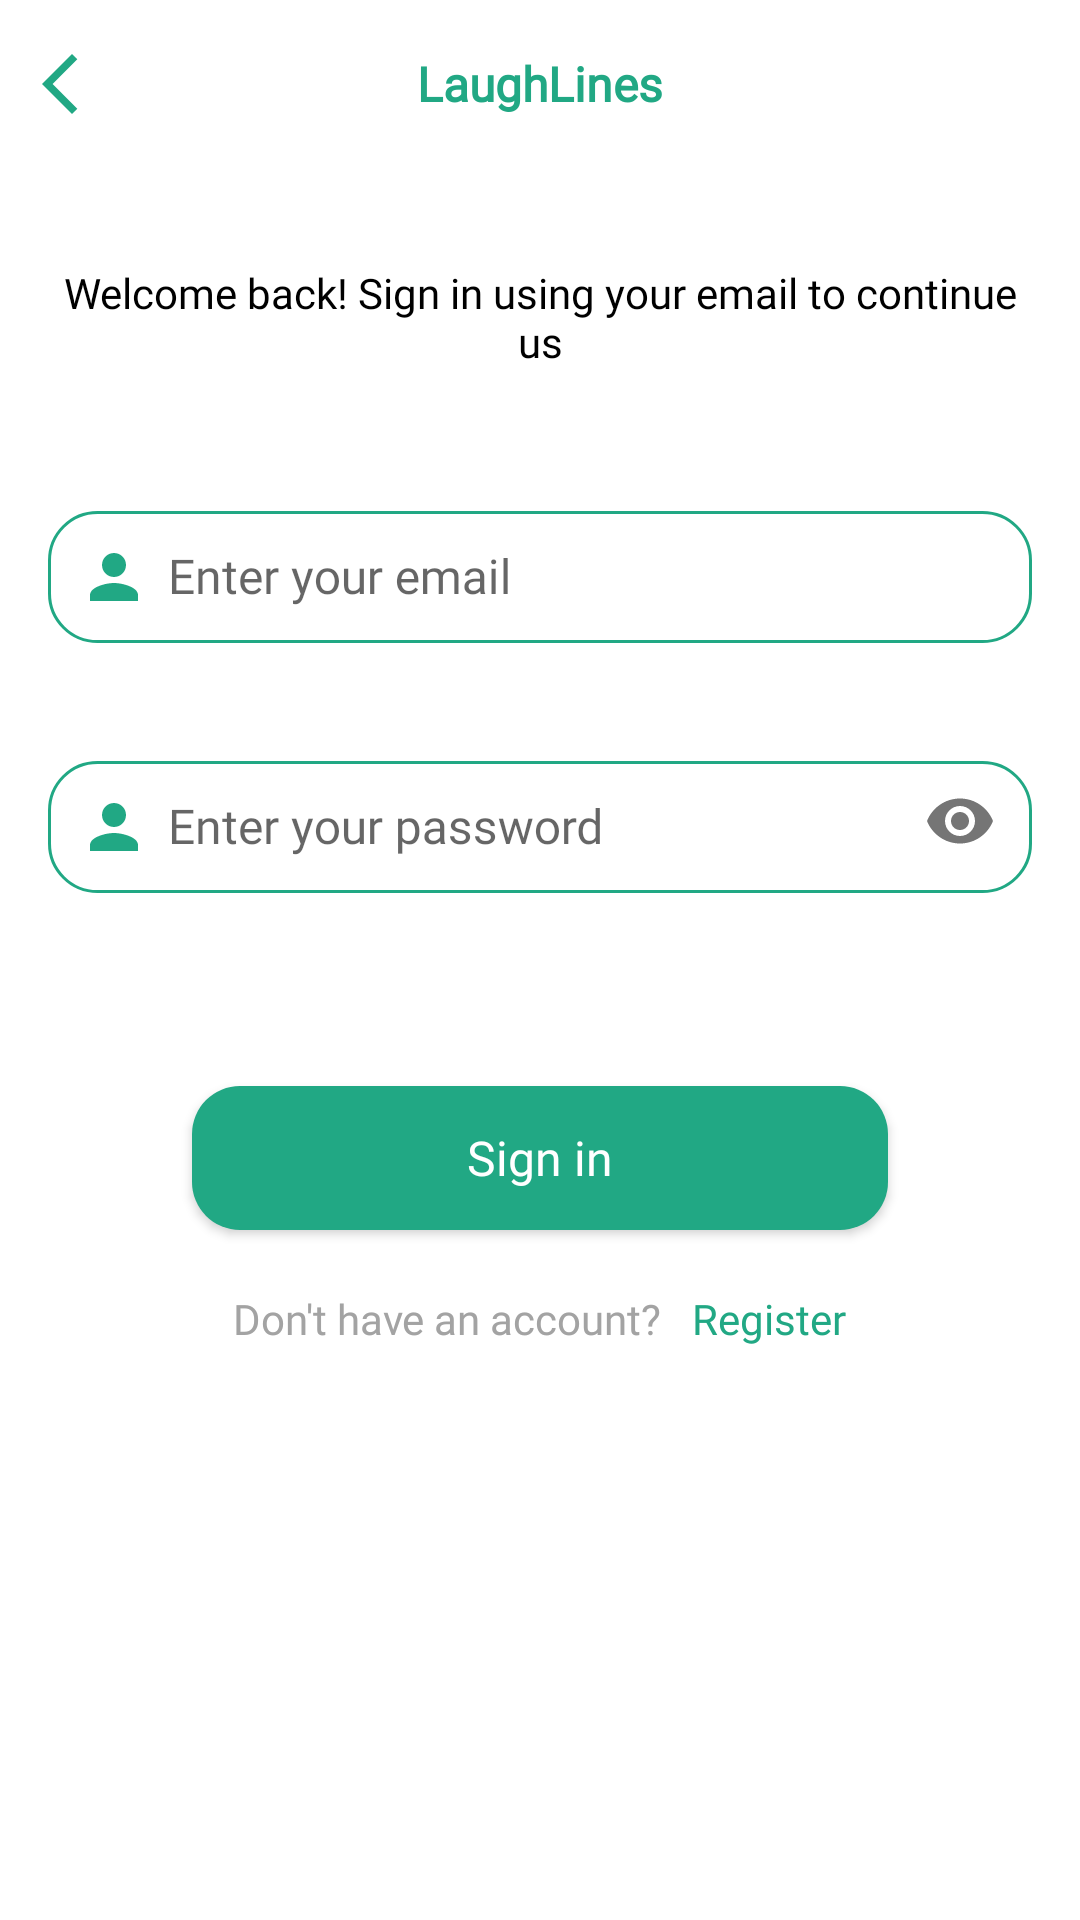

Icons on this 1080px×1920px Android screen, each with its box as (x1, y1, x2, y2):
arrow back: (42, 54, 77, 114)
